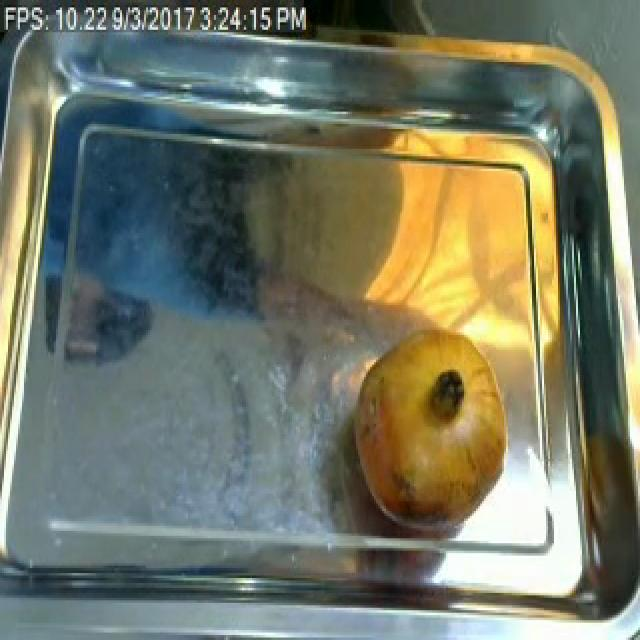fruit: (346, 320, 518, 546)
